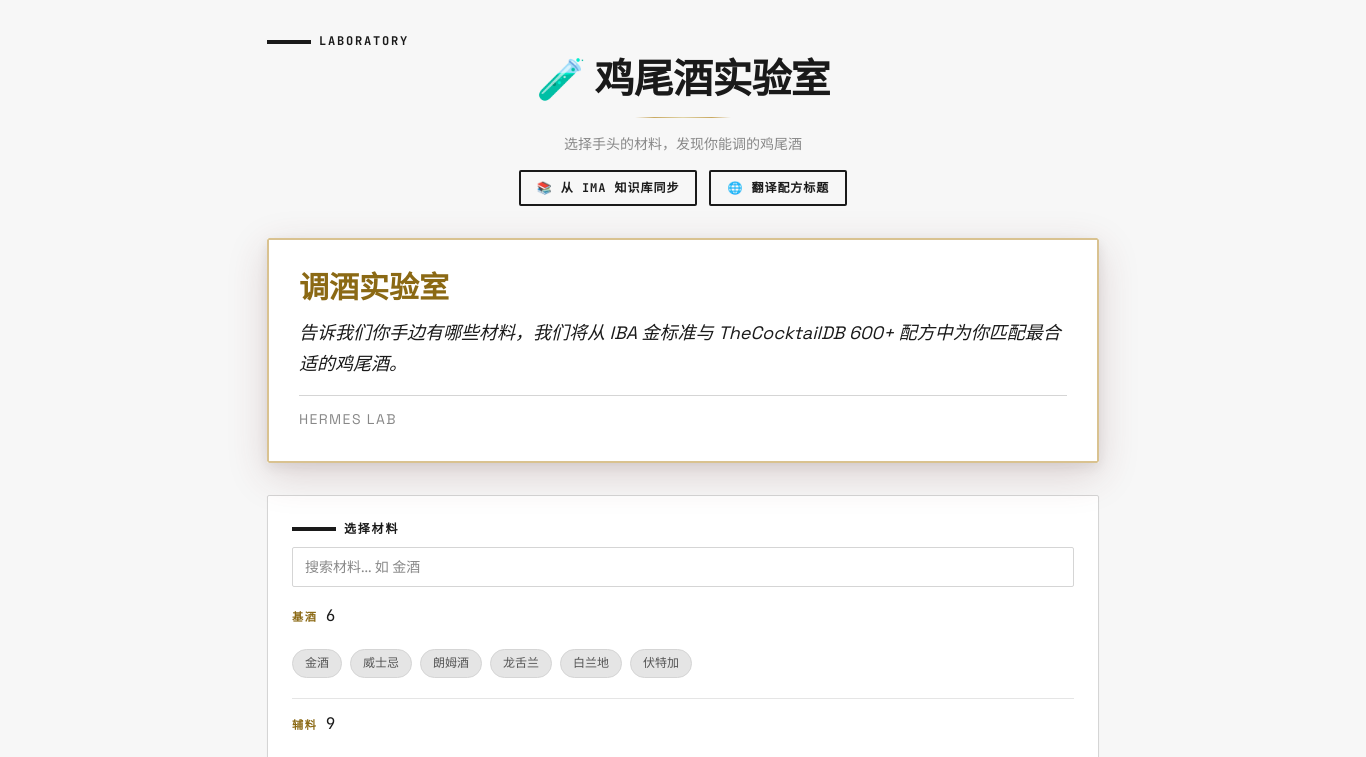
it: LabPanel: P1 翻译配方标题 UI › 翻译失败：展示错误信息且不渲染结果区
This screenshot has width=1366, height=757.
What coordinates should you click on to do the following:
click the button with aria-label "翻译英文配方标题为中文"
I would click on:
 (778, 188)
Its box is x1=709 y1=170 x2=847 y2=206.
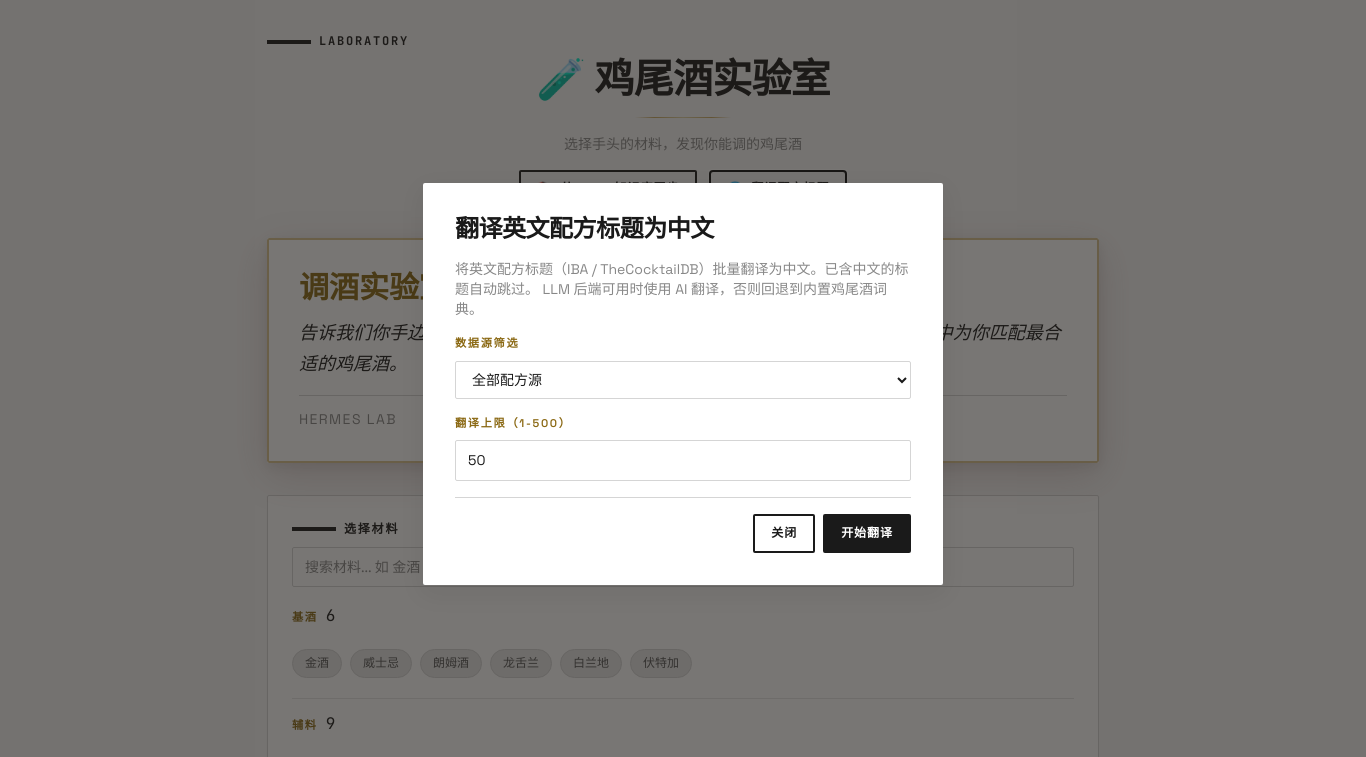
What coordinates should you click on to do the following:
click the button "开始翻译"
I would click on:
 (867, 533)
Its box is x1=823 y1=514 x2=911 y2=553.
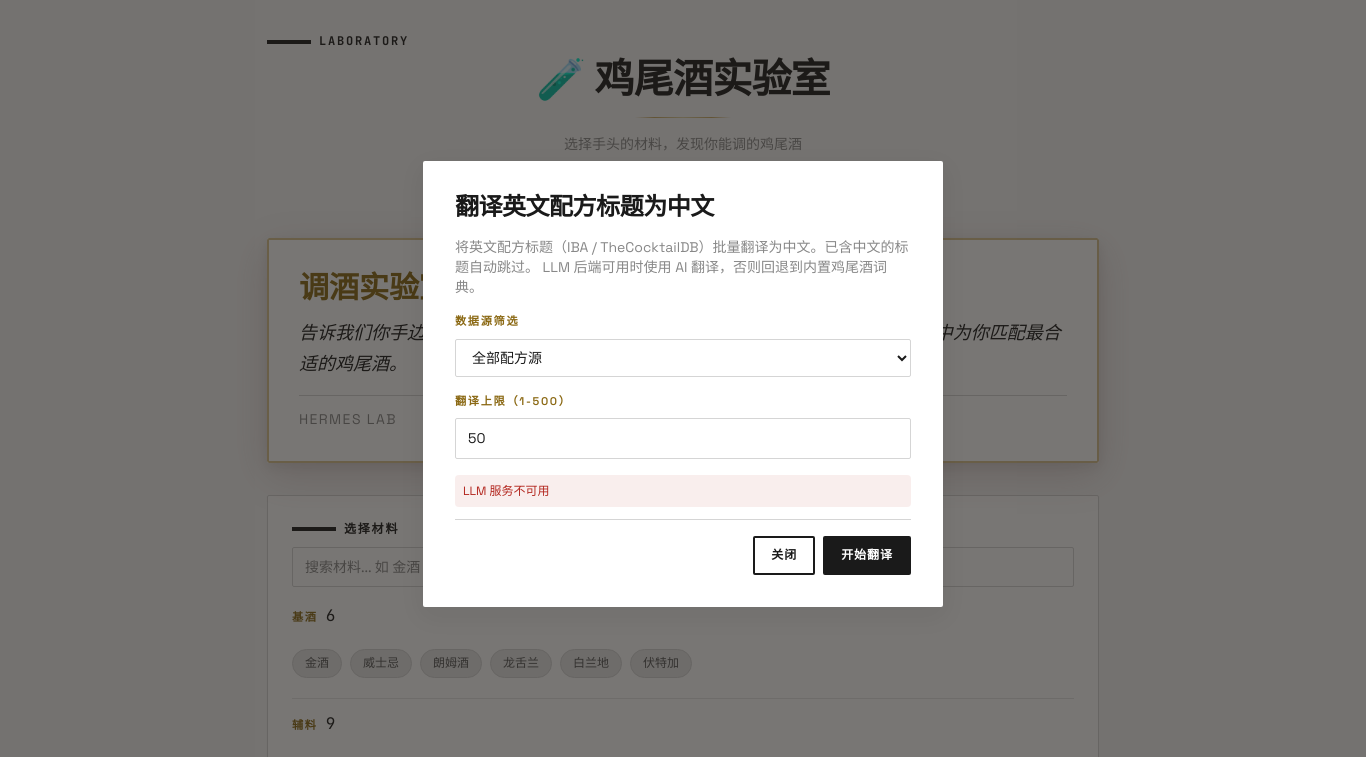
Expected: the text "LLM 服务不可用" is shown, x1=455 y1=475 x2=911 y2=507
